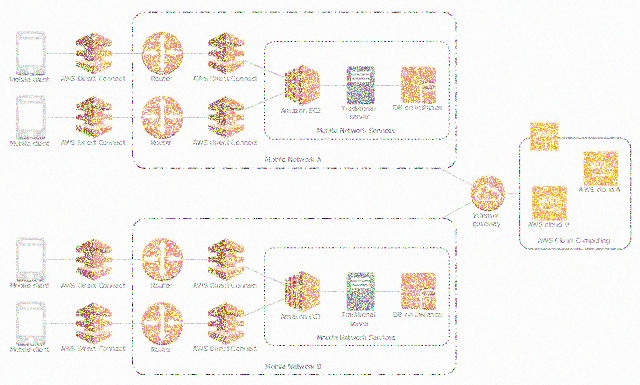Direct Connect: (204, 232, 248, 285), (206, 24, 249, 76), (71, 298, 117, 346), (71, 234, 116, 283), (72, 27, 116, 77), (205, 95, 250, 141), (72, 92, 115, 140), (205, 301, 250, 346)
EC2: (279, 59, 326, 108), (279, 264, 323, 315)
Internet: (468, 170, 508, 212)
Mobile Client: (10, 92, 53, 141), (11, 28, 51, 78), (13, 232, 50, 285), (13, 298, 48, 347)
Server: (341, 268, 383, 313), (344, 57, 380, 107)
VPC Router: (139, 233, 187, 282), (139, 27, 186, 76), (139, 93, 186, 140), (140, 299, 184, 346)
aws: (527, 181, 570, 223), (580, 146, 621, 188), (528, 117, 562, 156)
